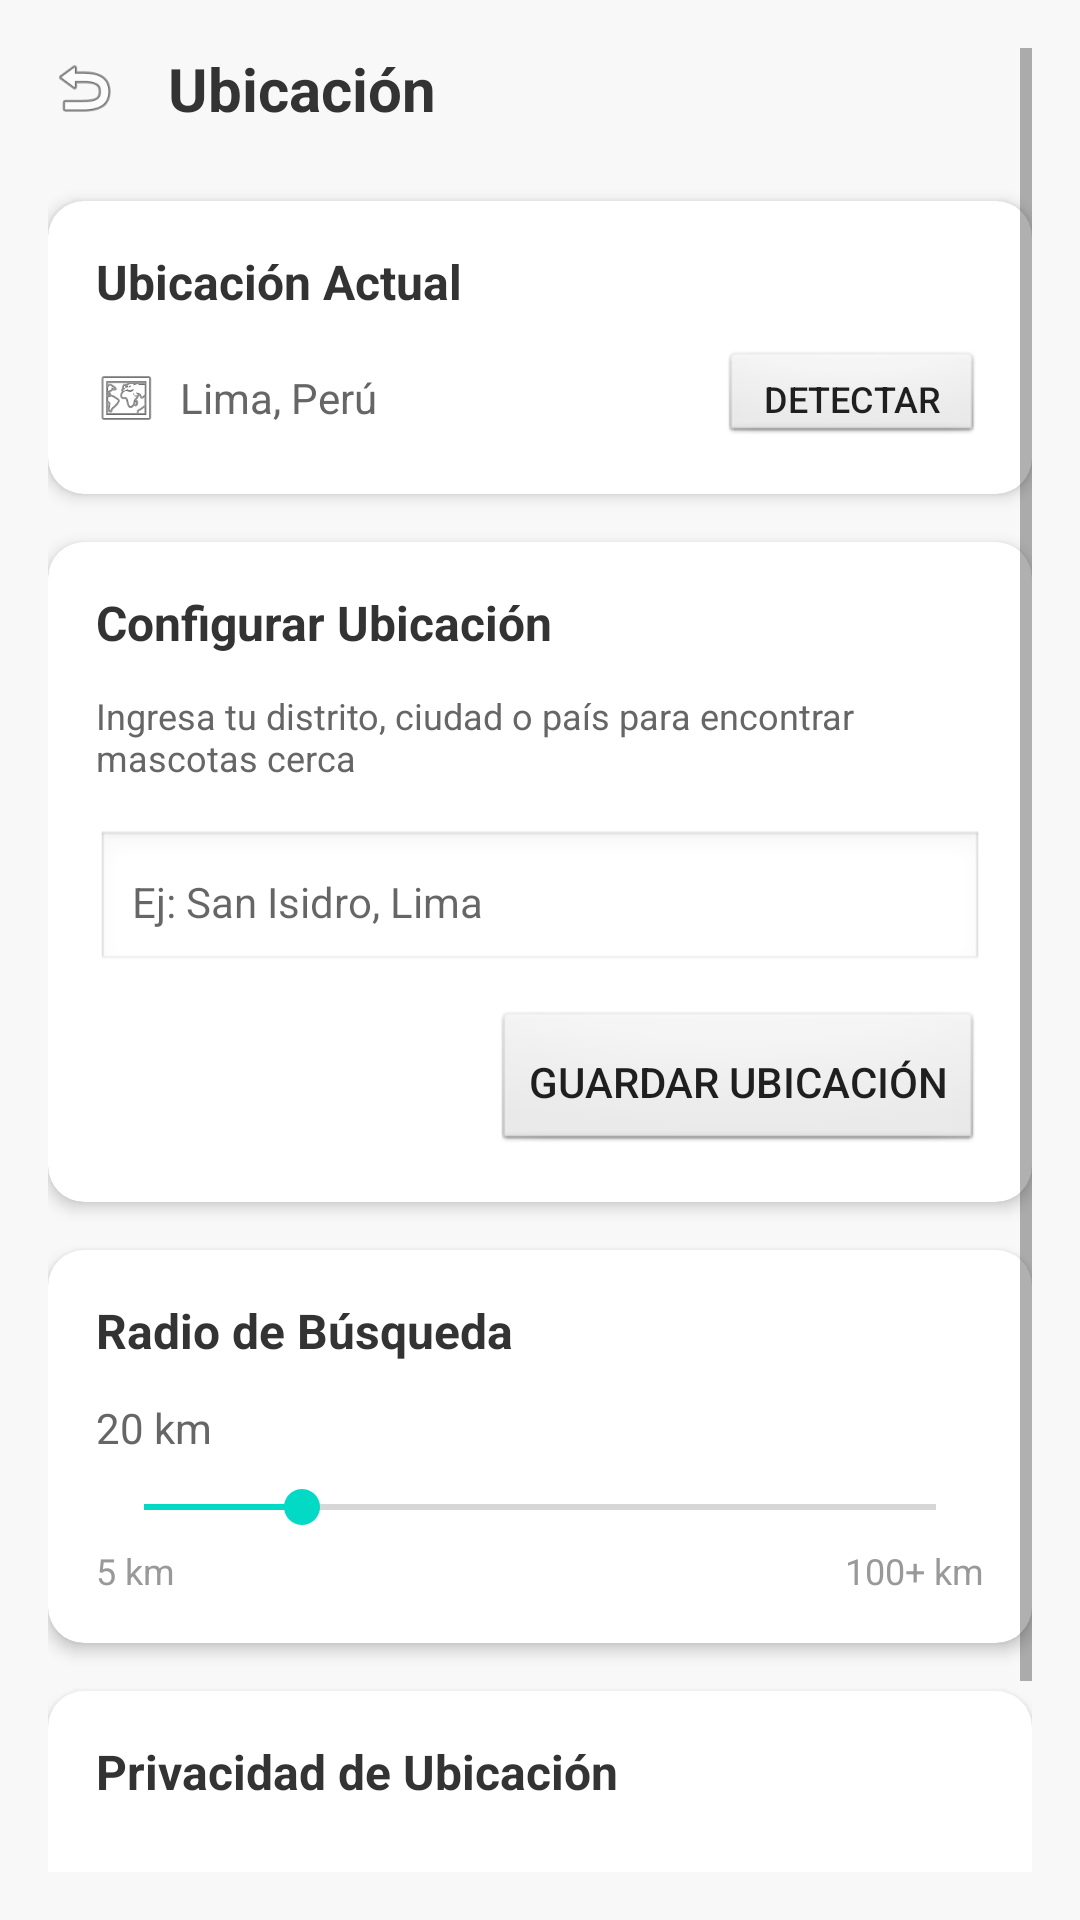

Locate icon controls on the screen. Image size 1080px×1920px, boxes as [x1, y1, x2, y2].
mapmode: [101, 376, 151, 420]
revert: [59, 65, 111, 112]
